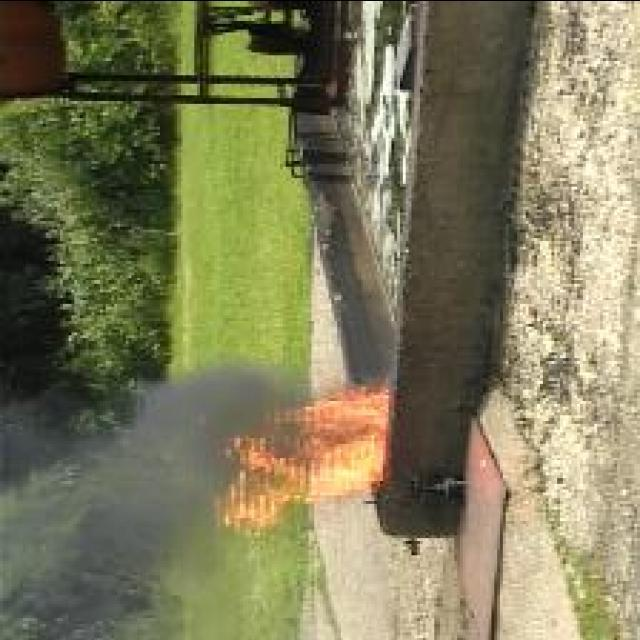Fire: (215, 380, 392, 534)
